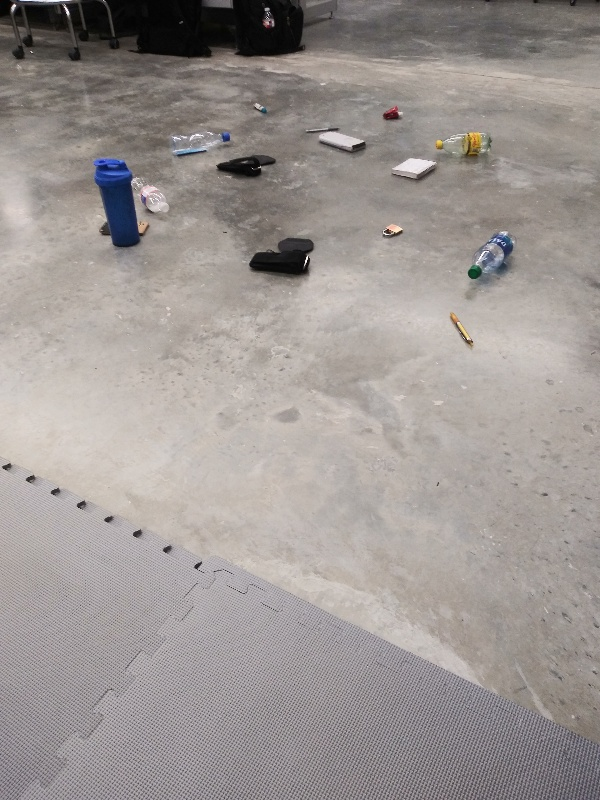bottle: (466, 227, 525, 283), (126, 169, 177, 222), (165, 125, 235, 160), (431, 129, 499, 161)
